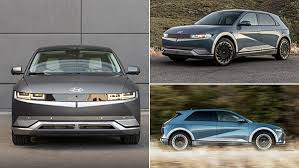Honda Ioniq: (4, 42, 145, 154), (157, 6, 295, 78), (158, 103, 289, 157)
